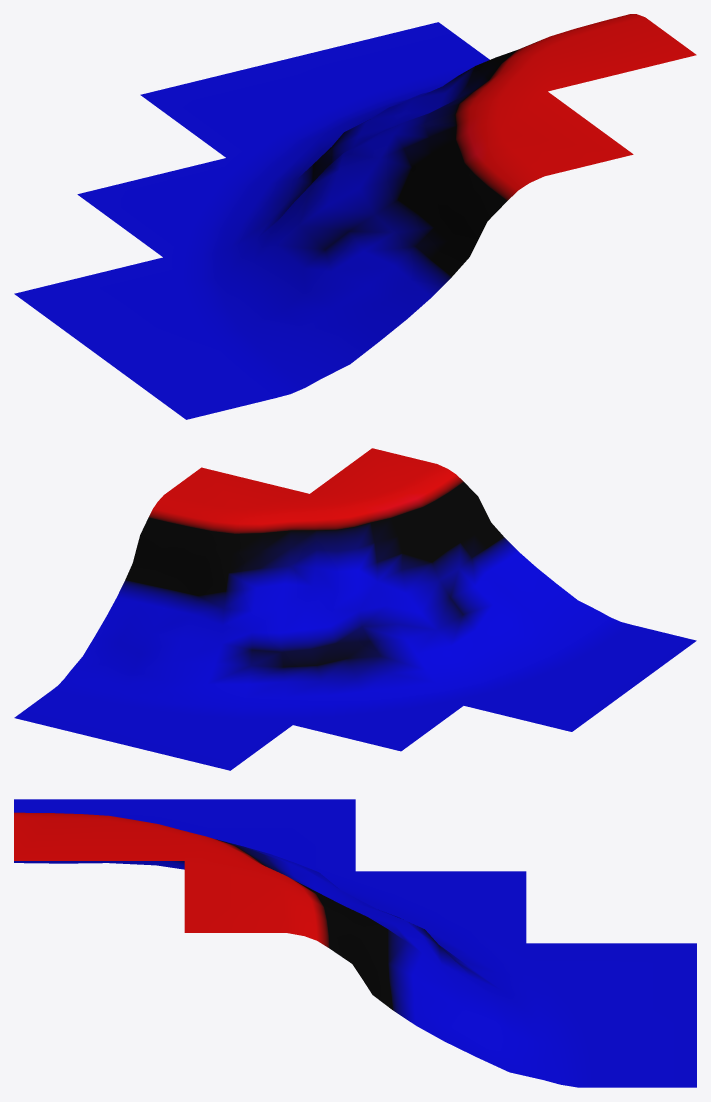
The model's file is RiverBank04B Background.fbx.
3 renders of one model, top to bottom at view 1: azimuth 30°, elevation 25°; view 2: azimuth 150°, elevation 25°; view 3: azimuth 270°, elevation 25°, orthographic. The views are drawn at different scales.
Visible parts, largest first — view 1: RiverBank04B Background; view 2: RiverBank04B Background; view 3: RiverBank04B Background.
Boxes of the visible parts, x1,y1,x2,y2 form: RiverBank04B Background: (14,14,696,419); RiverBank04B Background: (14,448,696,770); RiverBank04B Background: (14,799,696,1087).
Size of the model in its own units: 4 by 1 by 4.
